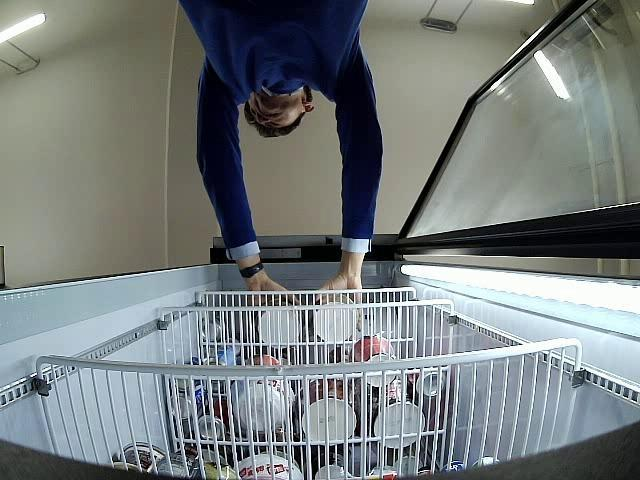03_chapagetti_L: (257, 300, 302, 346), (316, 293, 359, 341)
